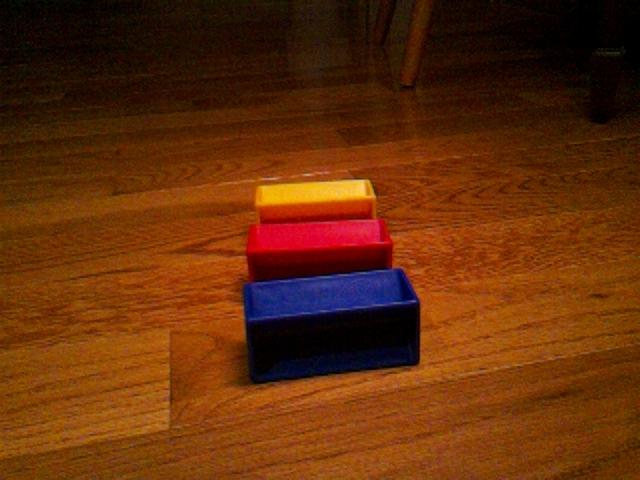blue: (242, 266, 422, 384)
red: (245, 217, 394, 281)
yellow: (254, 178, 378, 223)
